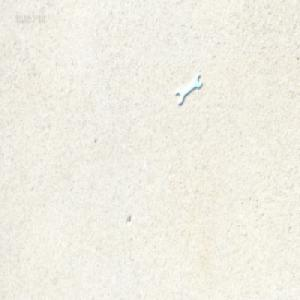Wrench: (175, 73, 201, 105)
